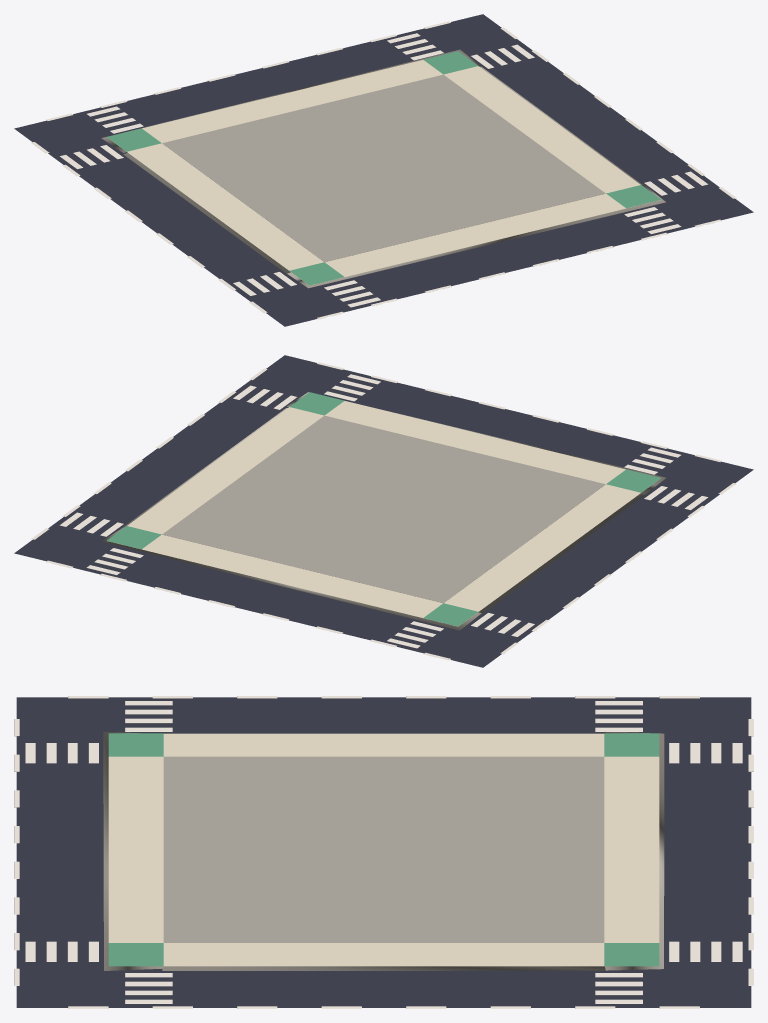
Rendered from tile_lot.glb.
The picture shows the model from 3 angles, top to bottom: view 1: azimuth 30°, elevation 25°; view 2: azimuth 150°, elevation 25°; view 3: azimuth 270°, elevation 25°; orthographic projection. The views are drawn at different scales.
Parts seen in each view (by area): view 1: tile_lot; view 2: tile_lot; view 3: tile_lot.
Boxes of the visible parts, x1=… form: tile_lot: x1=14, y1=14, x2=753, y2=326; tile_lot: x1=14, y1=355, x2=753, y2=667; tile_lot: x1=14, y1=696, x2=753, y2=1008.
Bounding box in the file's own units: 40.3 × 0.1722 × 40.3.
Materials: 1 (1 with a texture image).
